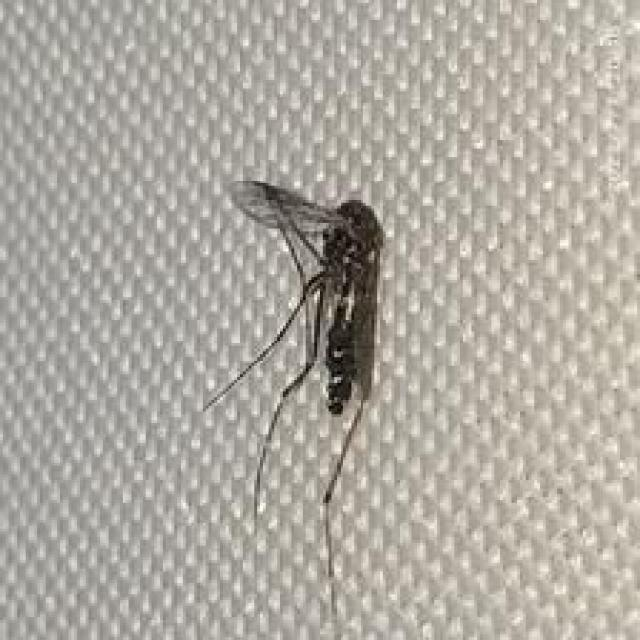Aedes albopictus: (202, 176, 387, 607)
